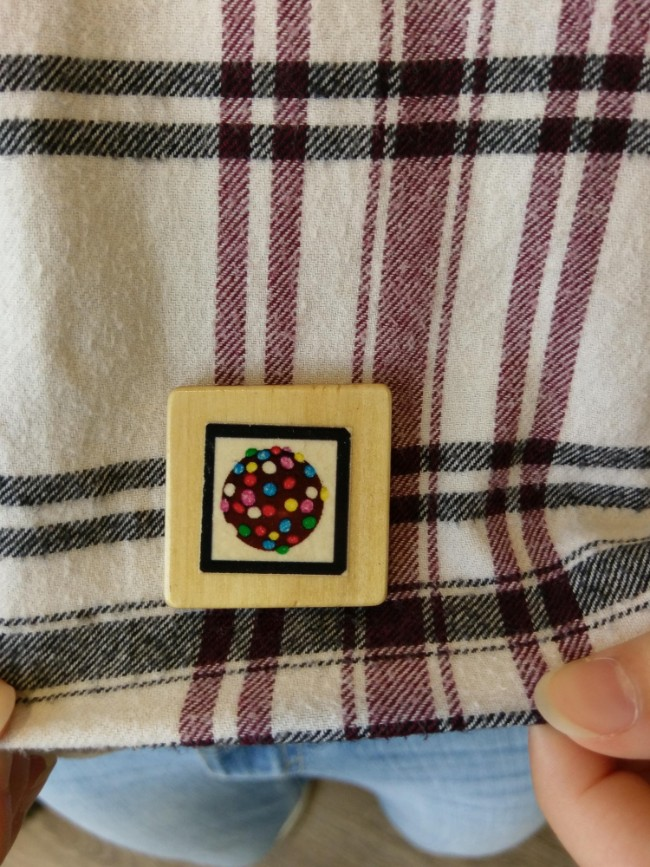cookie: (192, 419, 358, 587)
